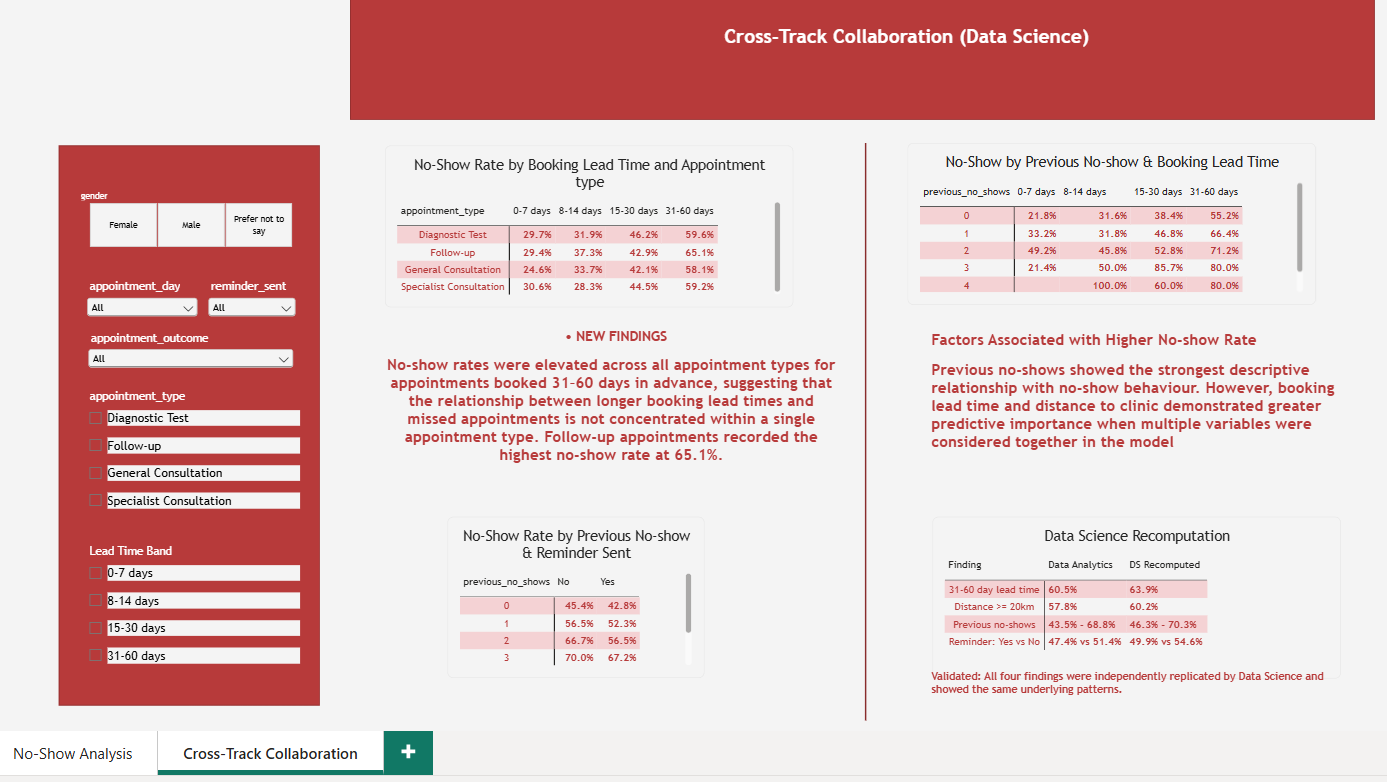

The dashboard page shown, as its layout file describes it:
{"tool":"powerbi","page":{"name":"Cross-Track Collaboration","canvas":[1920,1080],"ordinal":1},"visuals":[{"type":"shape","box":[490.4,0,1413.3,168.3],"z":0},{"type":"shape","box":[87.9,203.4,360.3,772.4],"z":1000},{"type":"pivotTable","title":"No-Show Rate by Booking Lead Time and Appointment type","fields":{"Columns":["HealthConnect_Appointment_Data.Lead Time Band"],"Rows":["HealthConnect_Appointment_Data.appointment_type"],"Values":["HealthConnect_Appointment_Data.No-Show Rate"]},"box":[537.9,203.4,562.9,222.9],"z":2000},{"type":"textbox","box":[492.2,570,12.7,52.5],"z":3000},{"type":"textbox","box":[642.4,570,27.1,27.1],"z":4000},{"type":"textbox","box":[942,38,632,62],"z":5000},{"type":"slicer","fields":{"Values":["HealthConnect_Appointment_Data.appointment_outcome"]},"box":[124,458,292,56],"z":6000},{"type":"slicer","fields":{"Values":["HealthConnect_Appointment_Data.appointment_type"]},"box":[122,540,298,176],"z":7000},{"type":"slicer","fields":{"Values":["HealthConnect_Appointment_Data.Lead Time Band"]},"box":[122,754,298,174],"z":8000},{"type":"slicer","fields":{"Values":["HealthConnect_Appointment_Data.reminder_sent"]},"box":[290,388,130,68],"z":9000},{"type":"slicer","fields":{"Values":["HealthConnect_Appointment_Data.appointment_day"]},"box":[122,388,162,56],"z":10000},{"type":"slicer","fields":{"Values":["HealthConnect_Appointment_Data.gender"]},"box":[110,266,318.5,79.6],"z":11000},{"type":"textbox","box":[537.9,455.2,624.1,255.2],"z":12000},{"type":"pivotTable","title":"No-Show Rate by Previous No-show & Reminder Sent","fields":{"Columns":["HealthConnect_Appointment_Data.reminder_sent"],"Rows":["HealthConnect_Appointment_Data.previous_no_shows"],"Values":["HealthConnect_Appointment_Data.No-Show Rate"]},"box":[624.1,715.5,354,222],"z":13000},{"type":"pivotTable","title":"No-Show by Previous No-show & Booking Lead Time","fields":{"Columns":["HealthConnect_Appointment_Data.Lead Time Band"],"Rows":["HealthConnect_Appointment_Data.previous_no_shows"],"Values":["HealthConnect_Appointment_Data.No-Show Rate"]},"box":[1258.6,200,562.1,243.1],"z":14000},{"type":"textbox","box":[1291.4,458.6,563.8,182.8],"z":15000},{"type":"shape","box":[1143.1,200,115.5,796.6],"z":16000},{"type":"pivotTable","title":"Data Science Recomputation","fields":{"Rows":["Cross-track Collaboration.Finding"],"Values":["Min(Cross-track Collaboration.Data Analytics)","Min(Cross-track Collaboration.DS Recomputed)"]},"box":[1293.1,715.5,562.9,222.9],"z":17000},{"type":"textbox","box":[1291.4,927.6,563.8,48.3],"z":18000}]}

Visuals, with their boxes on the page's 1920x1080 design canvas (x1, y1, x2, y2). These are canvas units, not pixel positions in the 1387x782 screenshot, which may show the page scaled, cropped or inside an application window:
shape: (490, 0, 1904, 168)
shape: (88, 203, 448, 976)
"No-Show Rate by Booking Lead Time and Appointment type" pivotTable: (538, 203, 1101, 426)
textbox: (492, 570, 505, 622)
textbox: (642, 570, 670, 597)
textbox: (942, 38, 1574, 100)
slicer - HealthConnect_Appointment_Data.appointment_outcome: (124, 458, 416, 514)
slicer - HealthConnect_Appointment_Data.appointment_type: (122, 540, 420, 716)
slicer - HealthConnect_Appointment_Data.Lead Time Band: (122, 754, 420, 928)
slicer - HealthConnect_Appointment_Data.reminder_sent: (290, 388, 420, 456)
slicer - HealthConnect_Appointment_Data.appointment_day: (122, 388, 284, 444)
slicer - HealthConnect_Appointment_Data.gender: (110, 266, 428, 346)
textbox: (538, 455, 1162, 710)
"No-Show Rate by Previous No-show & Reminder Sent" pivotTable: (624, 716, 978, 938)
"No-Show by Previous No-show & Booking Lead Time" pivotTable: (1259, 200, 1821, 443)
textbox: (1291, 459, 1855, 641)
shape: (1143, 200, 1259, 997)
"Data Science Recomputation" pivotTable: (1293, 716, 1856, 938)
textbox: (1291, 928, 1855, 976)
